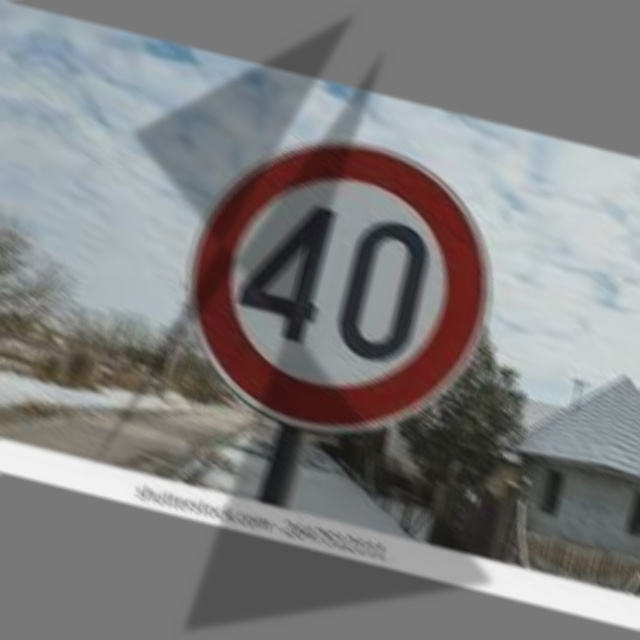Speed_Limit_40: (171, 115, 515, 458)
